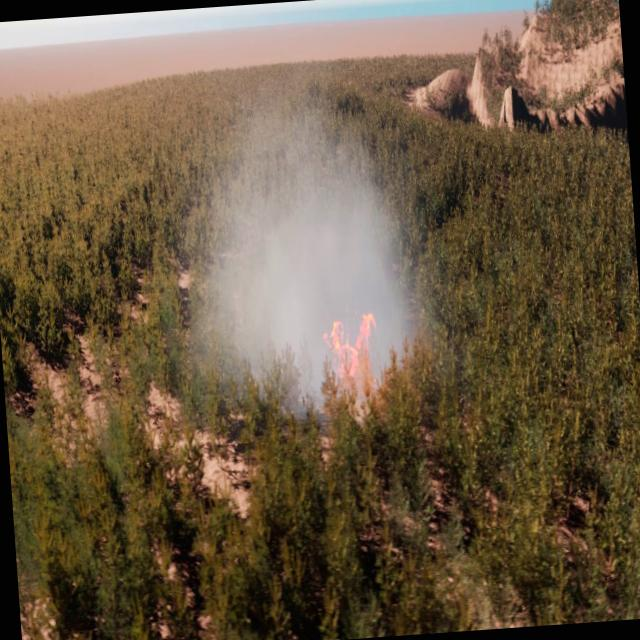fire: (313, 307, 381, 393)
smoke: (170, 61, 448, 436)
